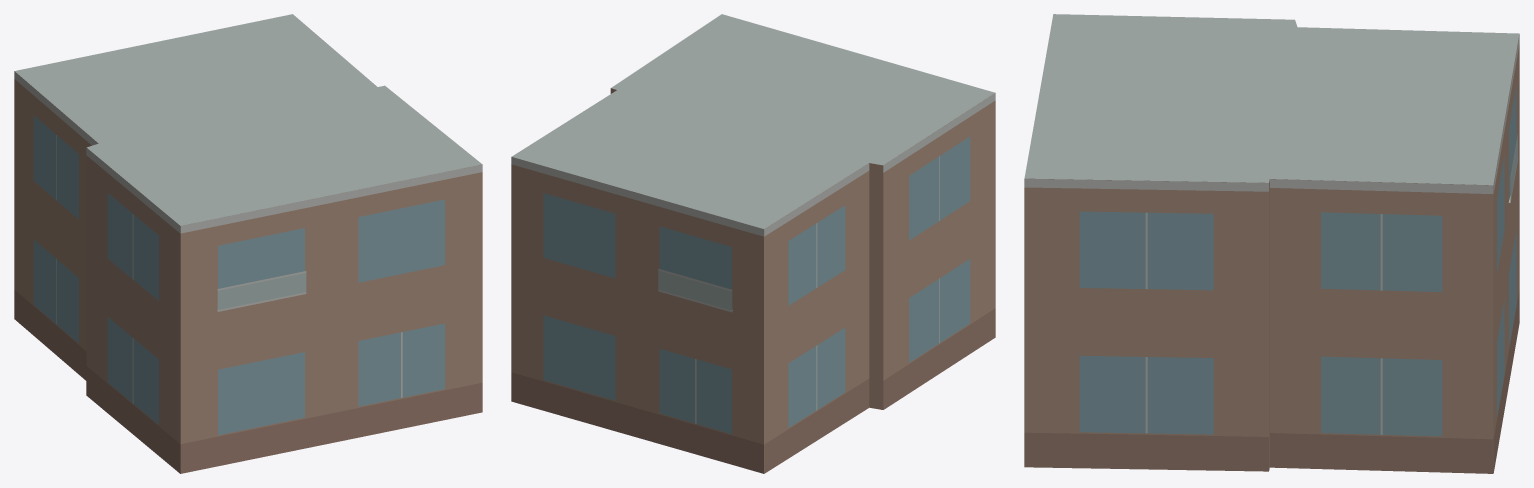
The model's file is survey-upis-32755174.glb.
3 views of the same model, side by side, from view 1: azimuth 30°, elevation 25°; view 2: azimuth 150°, elevation 25°; view 3: azimuth 270°, elevation 25° (orthographic). The views are drawn at different scales.
Visible parts, largest first — view 1: survey-upis-32755174.tmp; view 2: survey-upis-32755174.tmp; view 3: survey-upis-32755174.tmp.
Boxes of the visible parts, left/top/right/bottom form: survey-upis-32755174.tmp: left=14, top=14, right=482, bottom=473; survey-upis-32755174.tmp: left=511, top=14, right=995, bottom=473; survey-upis-32755174.tmp: left=1024, top=14, right=1519, bottom=473.
Bounding box in the file's own units: 10.06 × 7.9 × 12.29.
